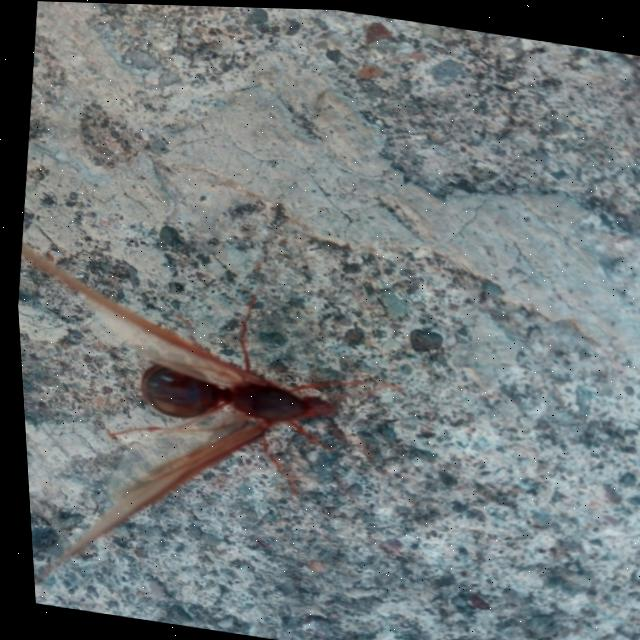Alive-Male-Alate: (11, 241, 423, 640)
